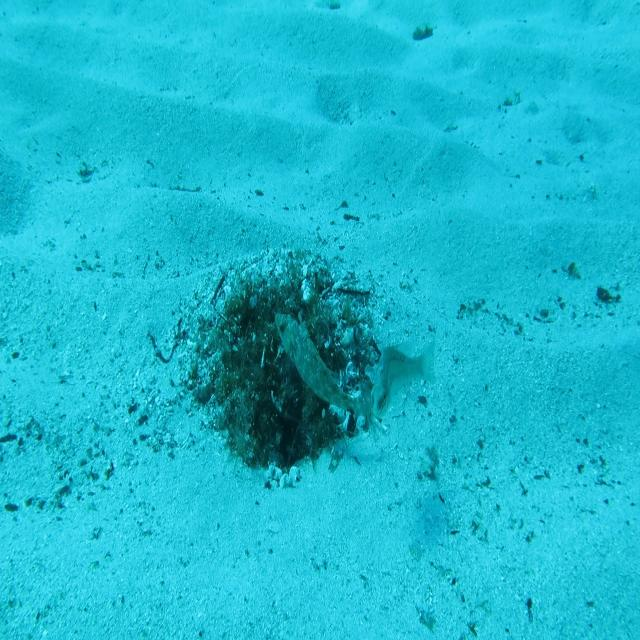FAN: (272, 309, 375, 421)
core_nest: (252, 300, 306, 337)
female: (369, 329, 438, 422)
nest: (170, 244, 392, 496)
vegetation: (411, 22, 436, 45)
